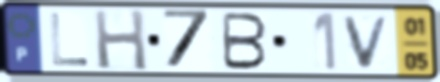1: (309, 10, 338, 74)
7: (160, 8, 213, 73)
B: (221, 10, 270, 72)
H: (91, 7, 151, 73)
L: (47, 11, 91, 68)
V: (341, 14, 394, 71)
